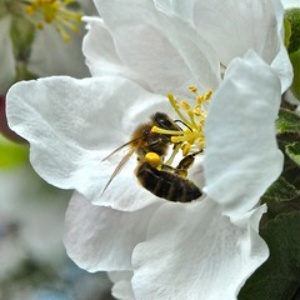bee: (100, 111, 206, 219)
